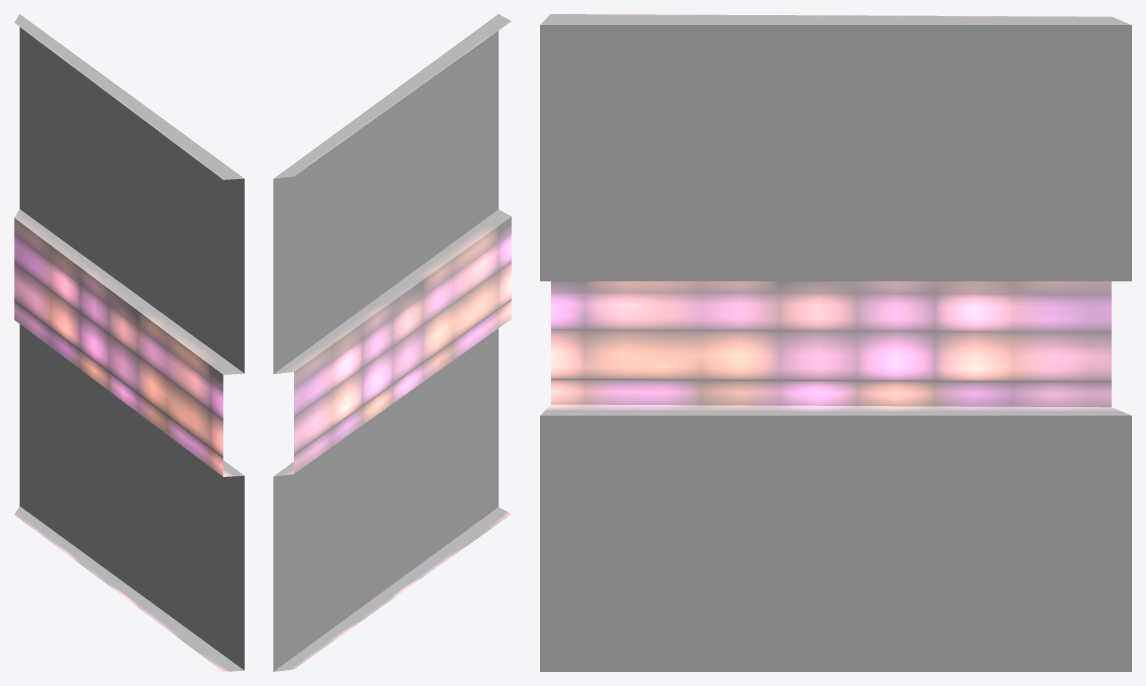
The model's file is BuildingBaseWall.fbx.
3 renders of one model, left to right at view 1: azimuth 30°, elevation 25°; view 2: azimuth 150°, elevation 25°; view 3: azimuth 270°, elevation 25°, orthographic. The views are drawn at different scales.
Visible parts, largest first — view 1: BuildingBase; view 2: BuildingBase; view 3: BuildingBase.
Part boxes in pixels (<box>): BuildingBase: <box>14,14,244,671</box>; BuildingBase: <box>273,14,511,671</box>; BuildingBase: <box>540,14,1131,671</box>.
Bounding box in the file's own units: 7.6 × 207 × 172.
